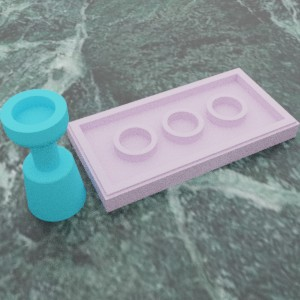lego: (65, 67, 300, 212), (0, 89, 86, 221)
